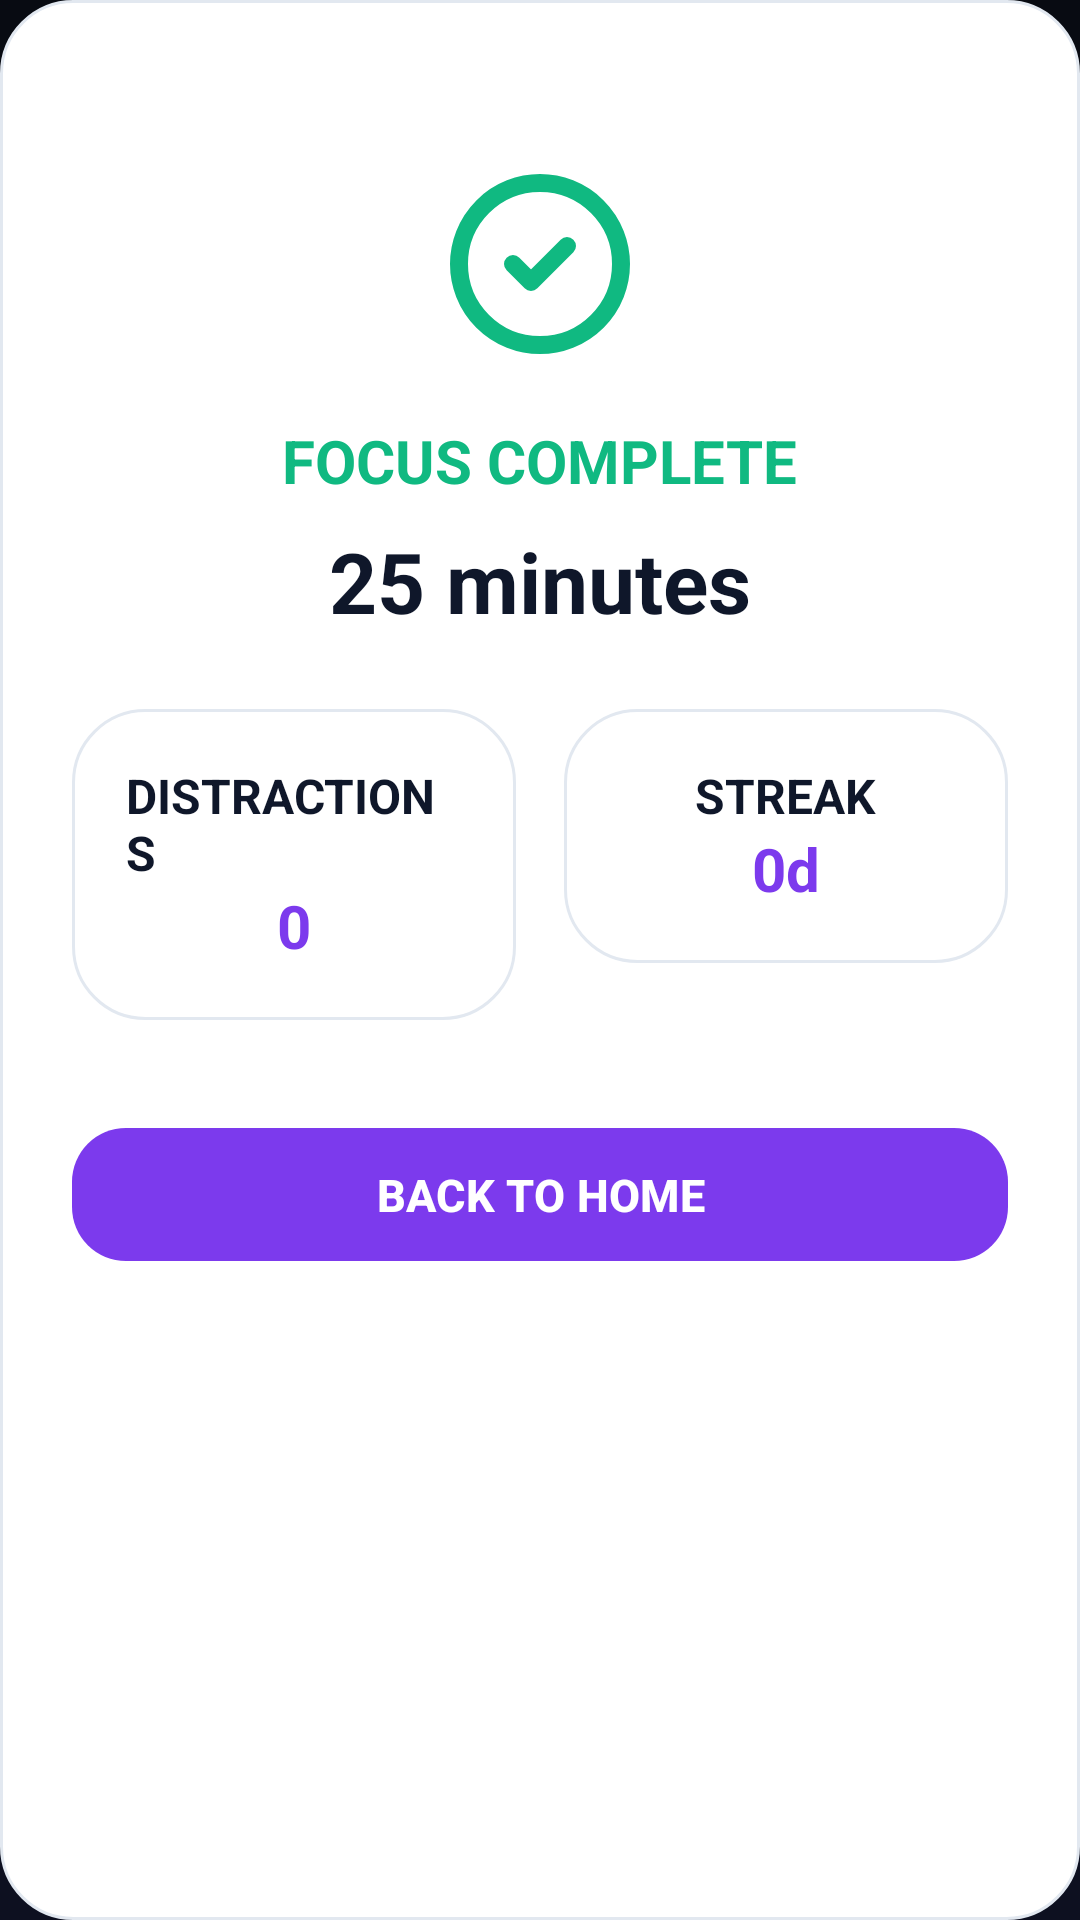

Icons on this 1080x1920 Android screen, each with the point to tap as (x=x, y=y):
check circle: (x=540, y=264)
